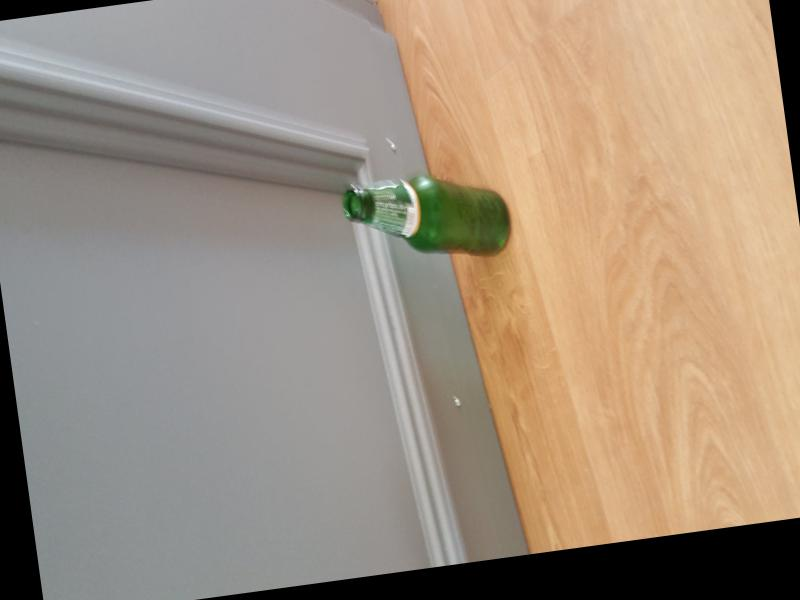Beer: (343, 167, 513, 271)
